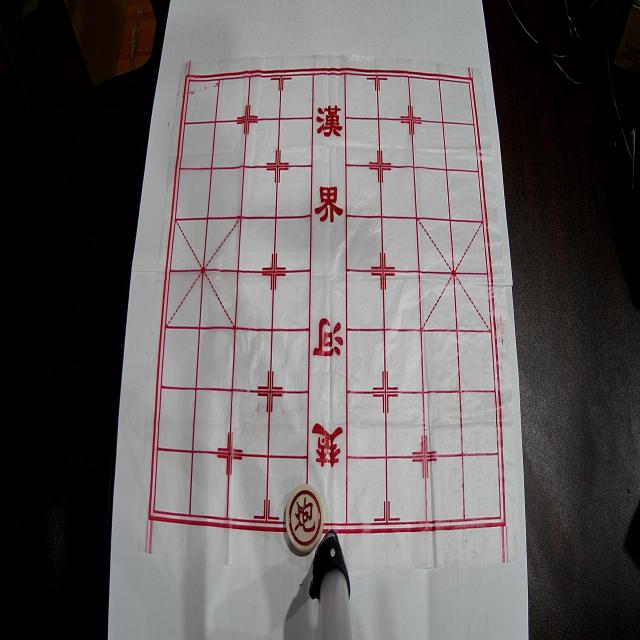red-cannon: (286, 484, 324, 553)
